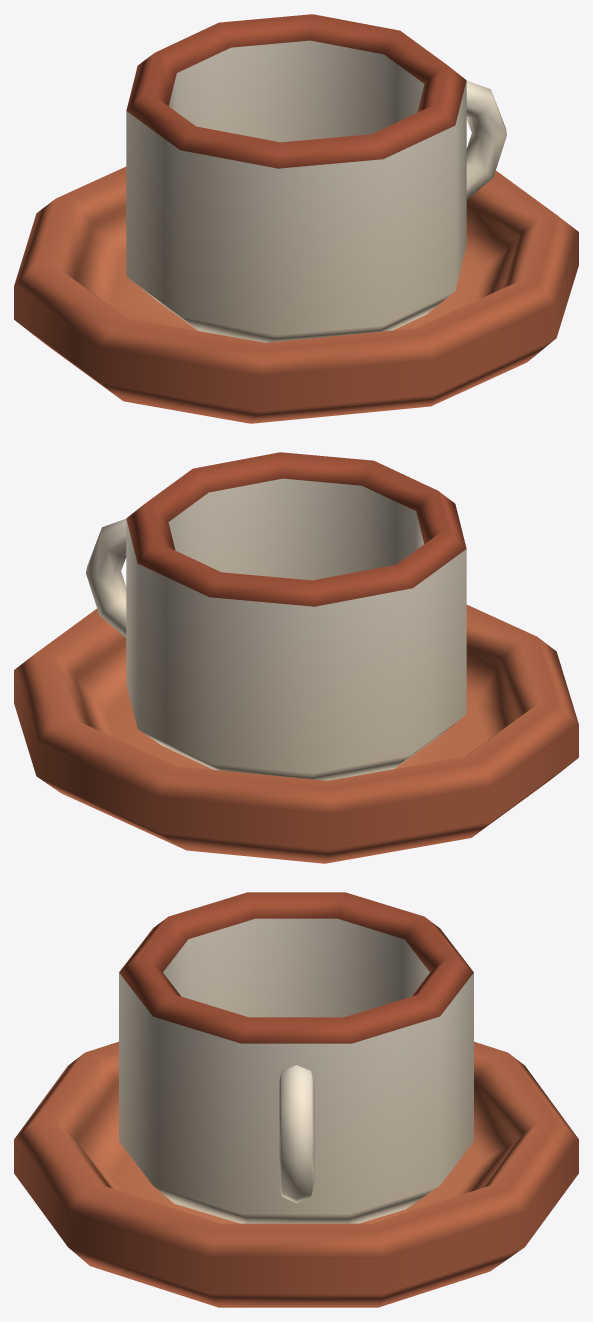
Rendered from SM_CozyShops_Espresso_Cup_Saucer.fbx.
3 views of the same model, one above another, from view 1: azimuth 30°, elevation 25°; view 2: azimuth 150°, elevation 25°; view 3: azimuth 270°, elevation 25° (orthographic). The views are drawn at different scales.
Visible parts, largest first — view 1: SM_CozyShops_Espresso_Cup_Saucer; view 2: SM_CozyShops_Espresso_Cup_Saucer; view 3: SM_CozyShops_Espresso_Cup_Saucer.
Boxes of the visible parts, <box> form: SM_CozyShops_Espresso_Cup_Saucer: <box>14,14,578,423</box>; SM_CozyShops_Espresso_Cup_Saucer: <box>14,452,578,863</box>; SM_CozyShops_Espresso_Cup_Saucer: <box>14,892,578,1307</box>.
Size of the model in its own units: 0.127 by 0.0609 by 0.127.
